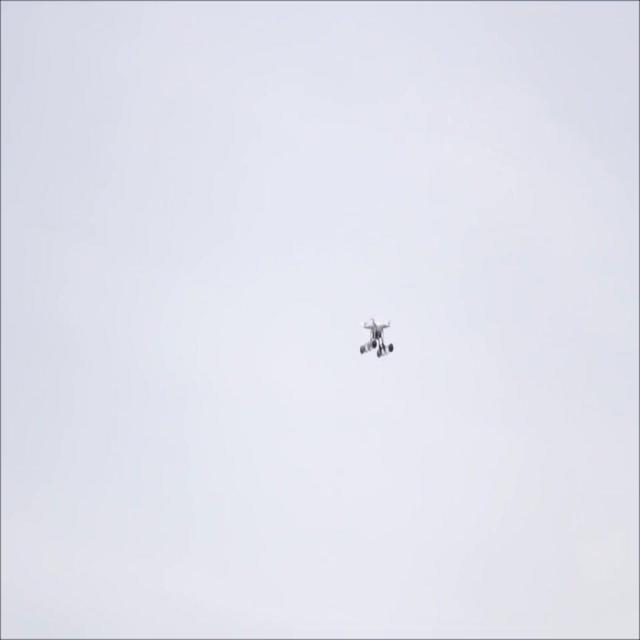UAV: (360, 316, 394, 360)
